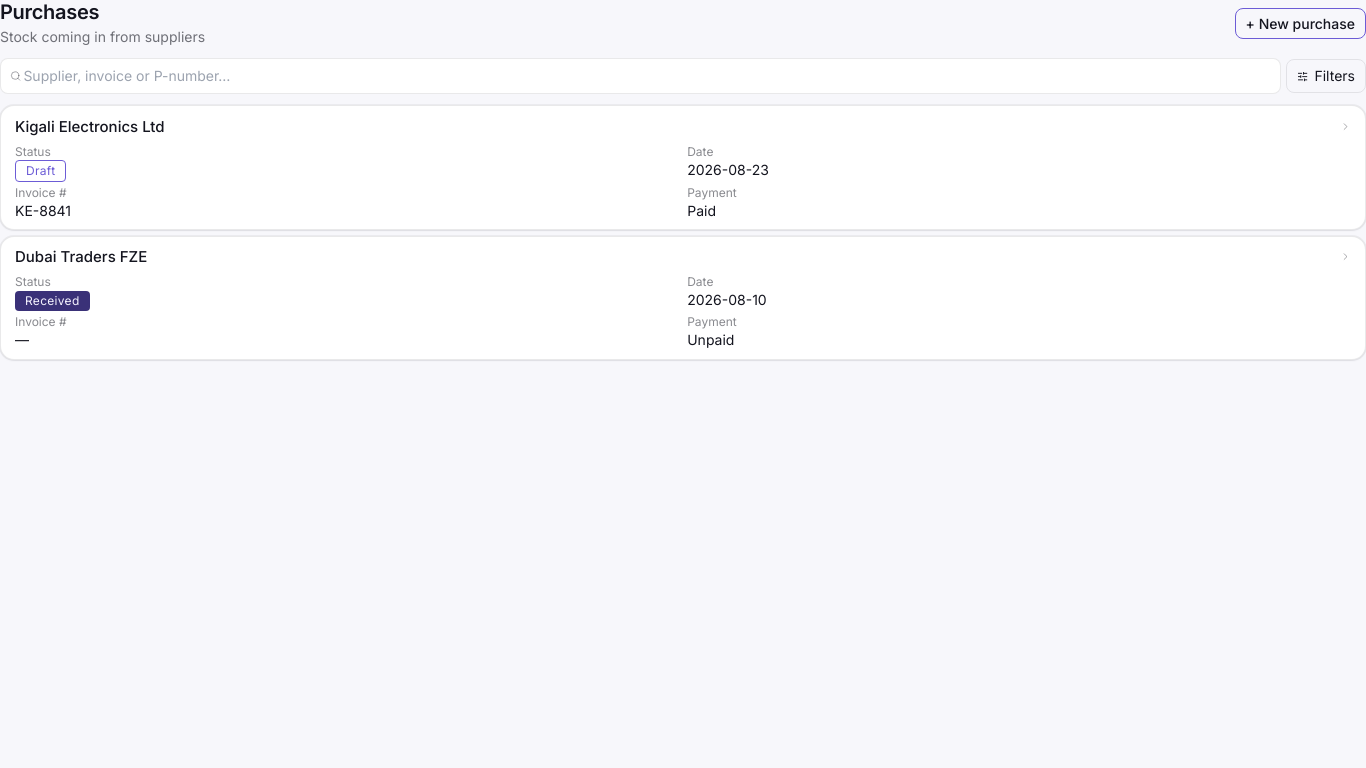
Test: PurchasesPageClient › on phone shows cards and moves the filters into a Filters sheet
The width and height of the screenshot is (1366, 768).
Click the button "Filters" at (1326, 76), box [1286, 59, 1365, 93]
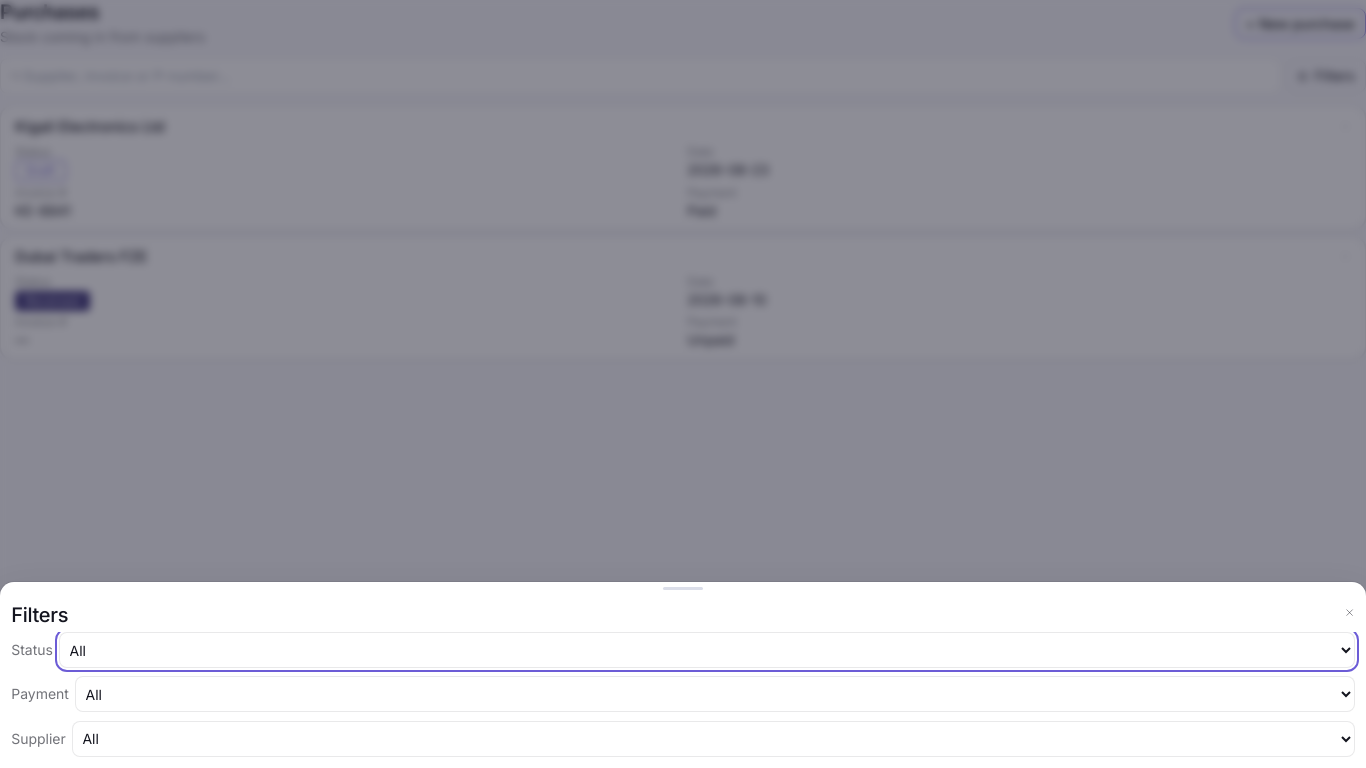
Now the dropdown labelled "Status" is shown, box [59, 632, 1355, 668]
